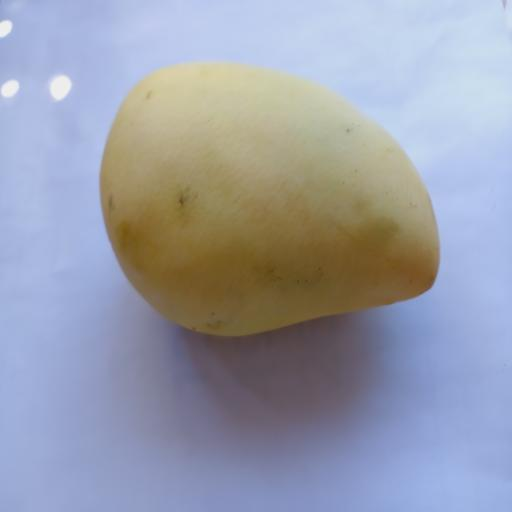mango-ripe: (89, 28, 457, 368)
